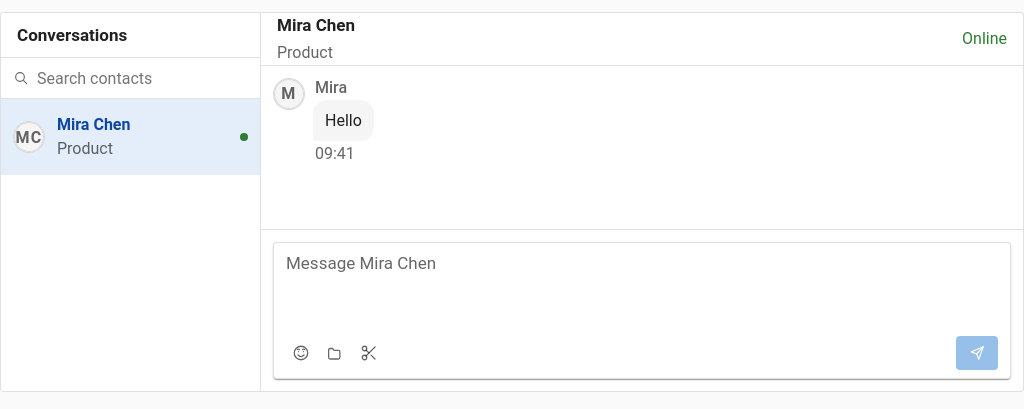
Test: chat composer › opens an emoji popover and inserts the chosen emoji at the caret
Type "Hi" into the text box.
click(642, 290); type("Hi")  # box x1=286 y1=251 x2=998 y2=328
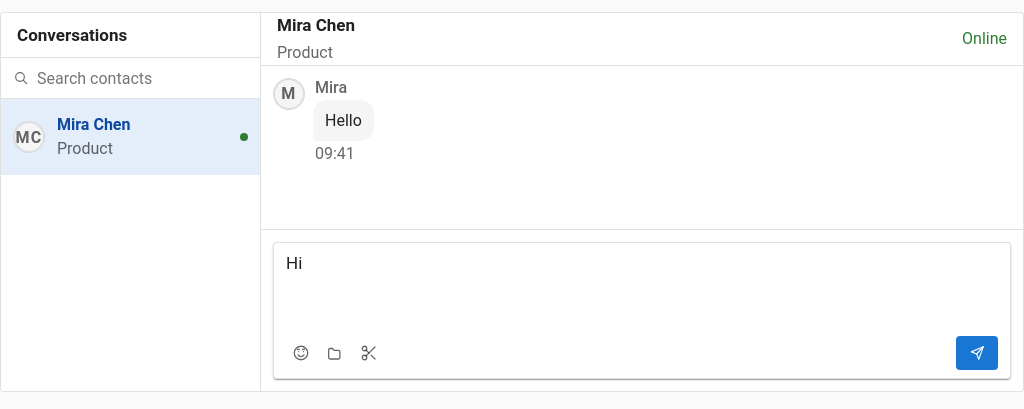
Click the button named "Emoji".
click(301, 353)  # box x1=286 y1=338 x2=316 y2=368
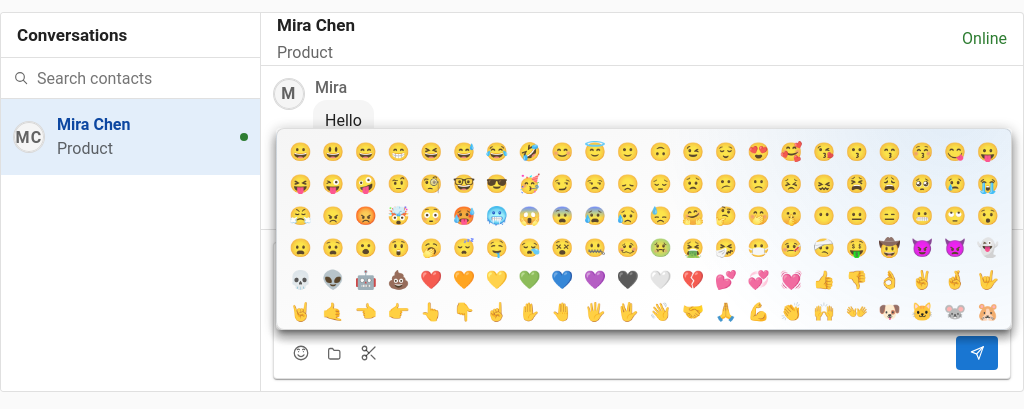
Check: the element with class "chat__emoji-grid" is shown, box x1=277 y1=129 x2=1011 y2=329
Click the button "😀".
click(300, 152)  # box x1=285 y1=137 x2=316 y2=167
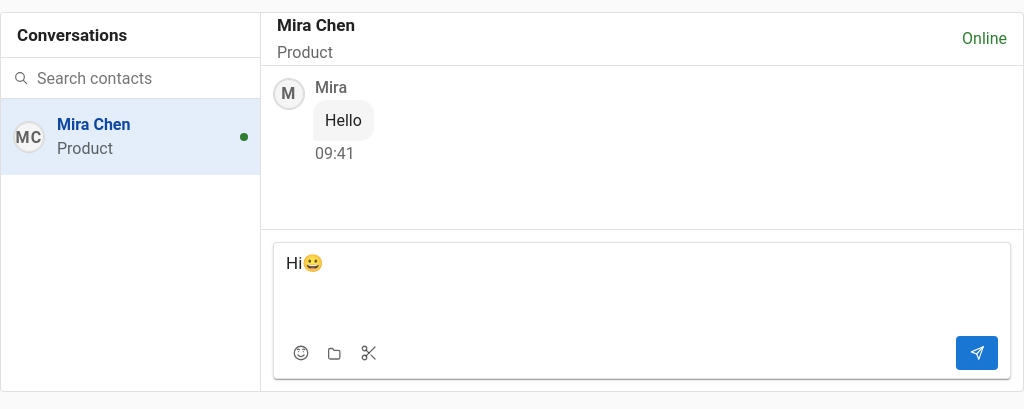
Check: the text box holds "Hi😀", box x1=286 y1=251 x2=998 y2=328
Check: the element with class "chat__emoji-grid" is gone
